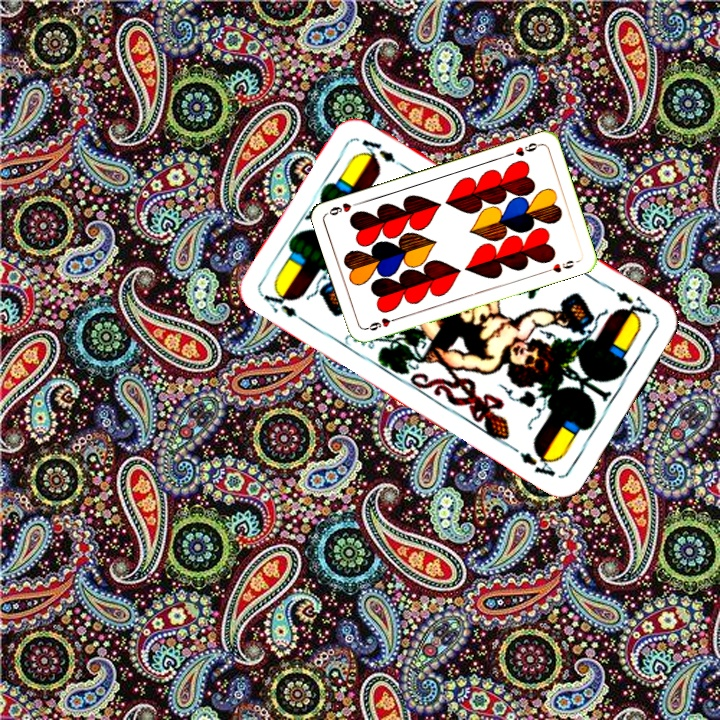EA: (258, 284, 312, 327), (604, 283, 658, 325)
H9: (504, 138, 543, 159), (362, 313, 401, 333)
